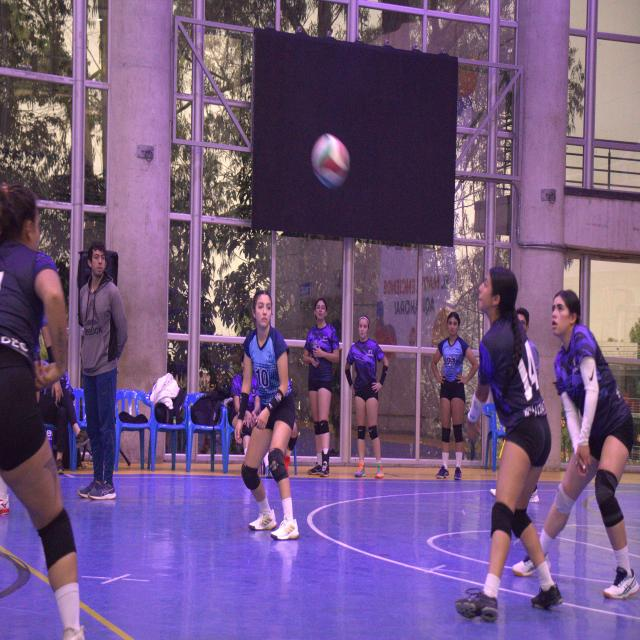volleyball: (312, 134, 350, 188)
